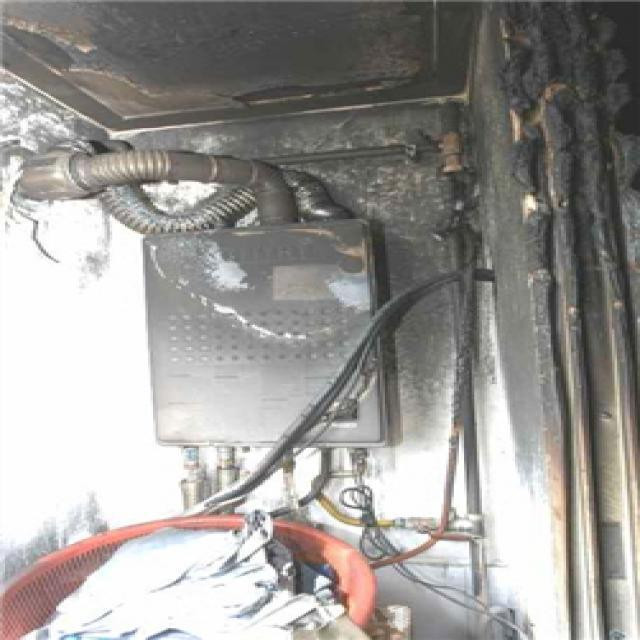Boiler: (121, 202, 429, 470)
